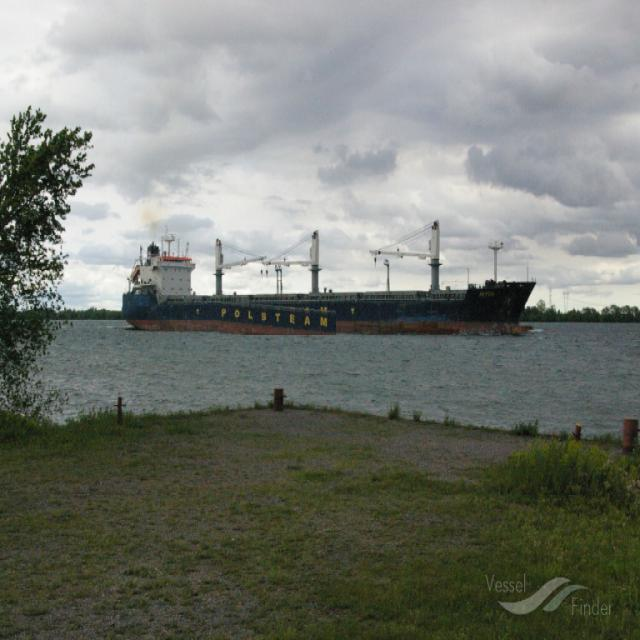OCR: (215, 299, 336, 335)
